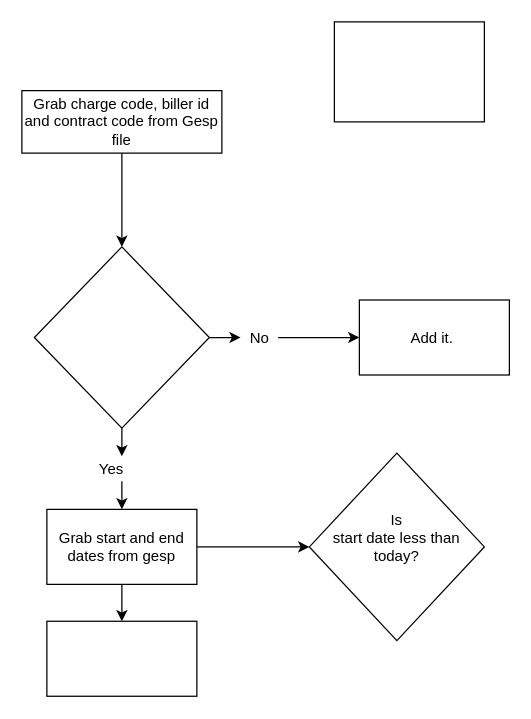
The diagram is 531 pixels wide and 719 high, and some of its shapes have lost their labels. The centre of each missing label's shape, as x and y in pixels:
Grab start and end dates in BC: pixel 121 658
Is it present in BC?: pixel 121 337
